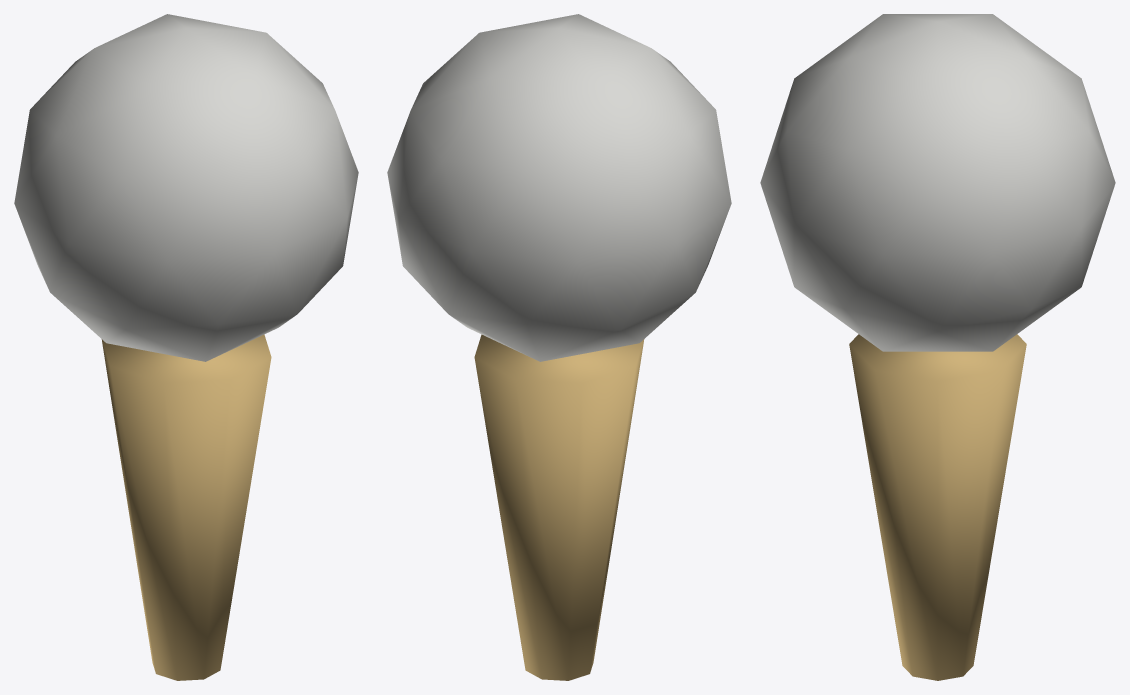
The model's file is golf_tee_v0.glb.
3 views of the same model, side by side, from view 1: azimuth 30°, elevation 25°; view 2: azimuth 150°, elevation 25°; view 3: azimuth 270°, elevation 25° (orthographic).
Parts seen in each view (by area): view 1: golf_tee_v0; view 2: golf_tee_v0; view 3: golf_tee_v0.
Part boxes in pixels (box(x1,y1,x2,y2)): golf_tee_v0: box(14, 14, 358, 680); golf_tee_v0: box(387, 14, 731, 680); golf_tee_v0: box(760, 14, 1115, 680).
Bounding box in the file's own units: 0.0761 × 0.16 × 0.08.
